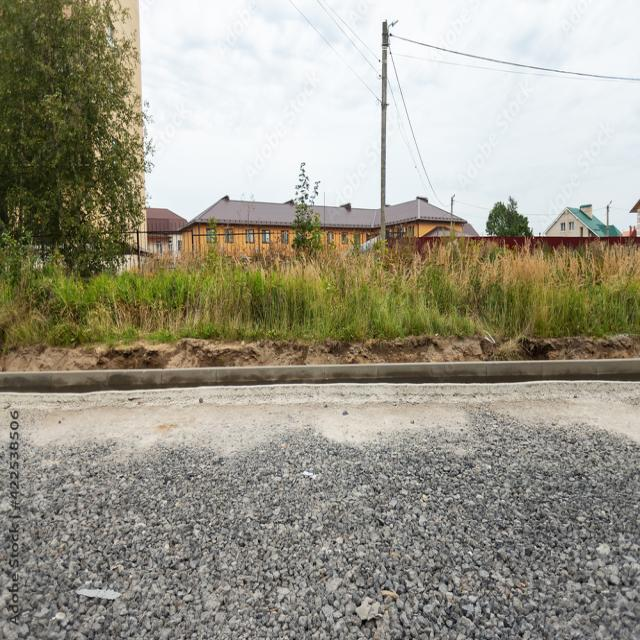Pothole: (1, 322, 640, 421)
